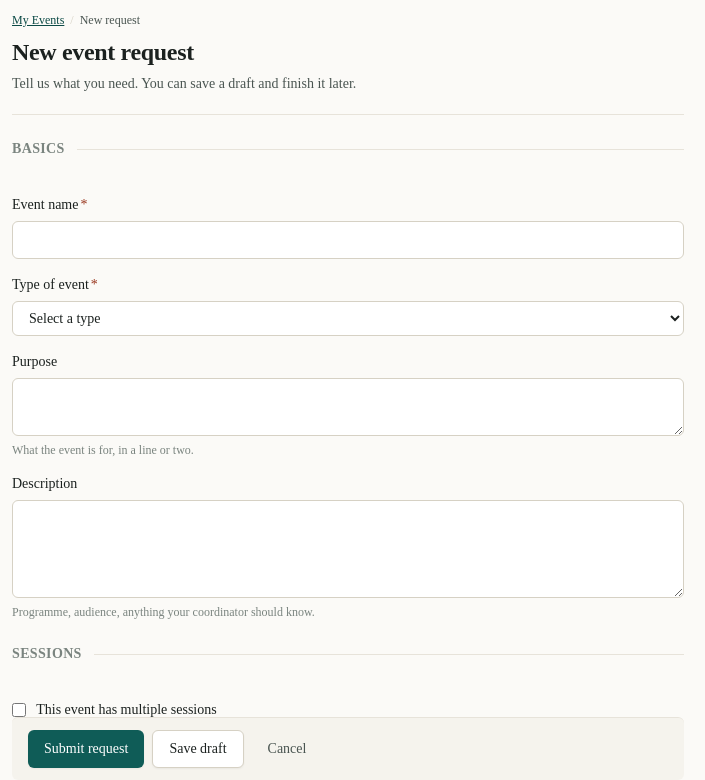
it: New event request: the form › when the save is refused › [SPM-23][AC7] puts the server's field errors under their fields
The width and height of the screenshot is (705, 780).
Type "Gala Dinner" into the field labelled "Event name*" at [348, 240], box top-left (12, 221), bottom-right (684, 259)
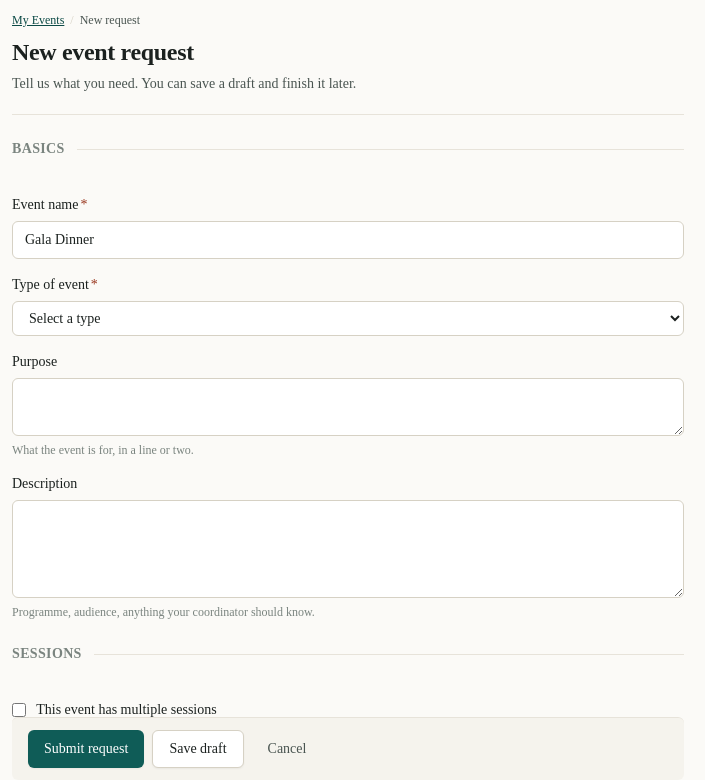
Click the button "Save draft" at [198, 749], box top-left (152, 730), bottom-right (244, 768)
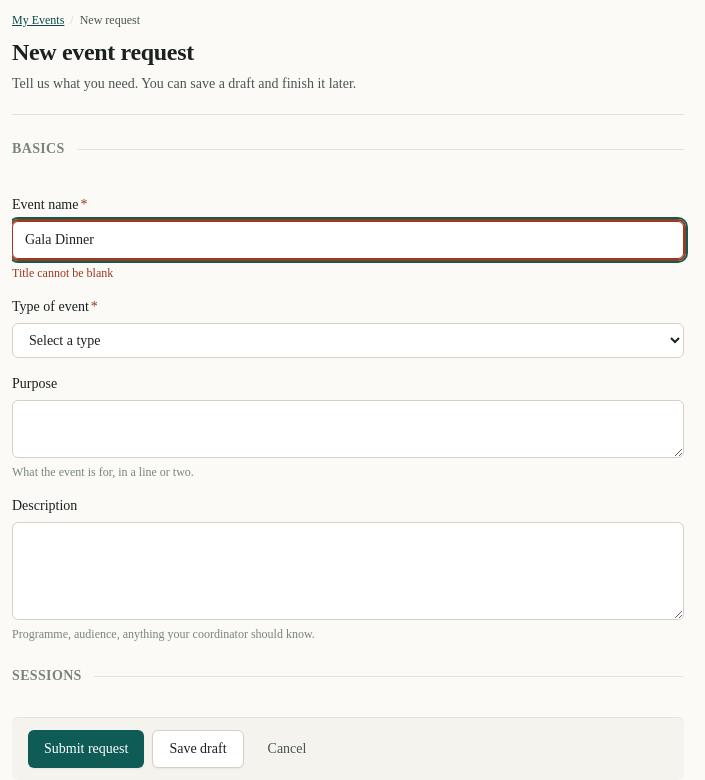
Now the text "Title cannot be blank" is shown, box top-left (12, 266), bottom-right (113, 280)
